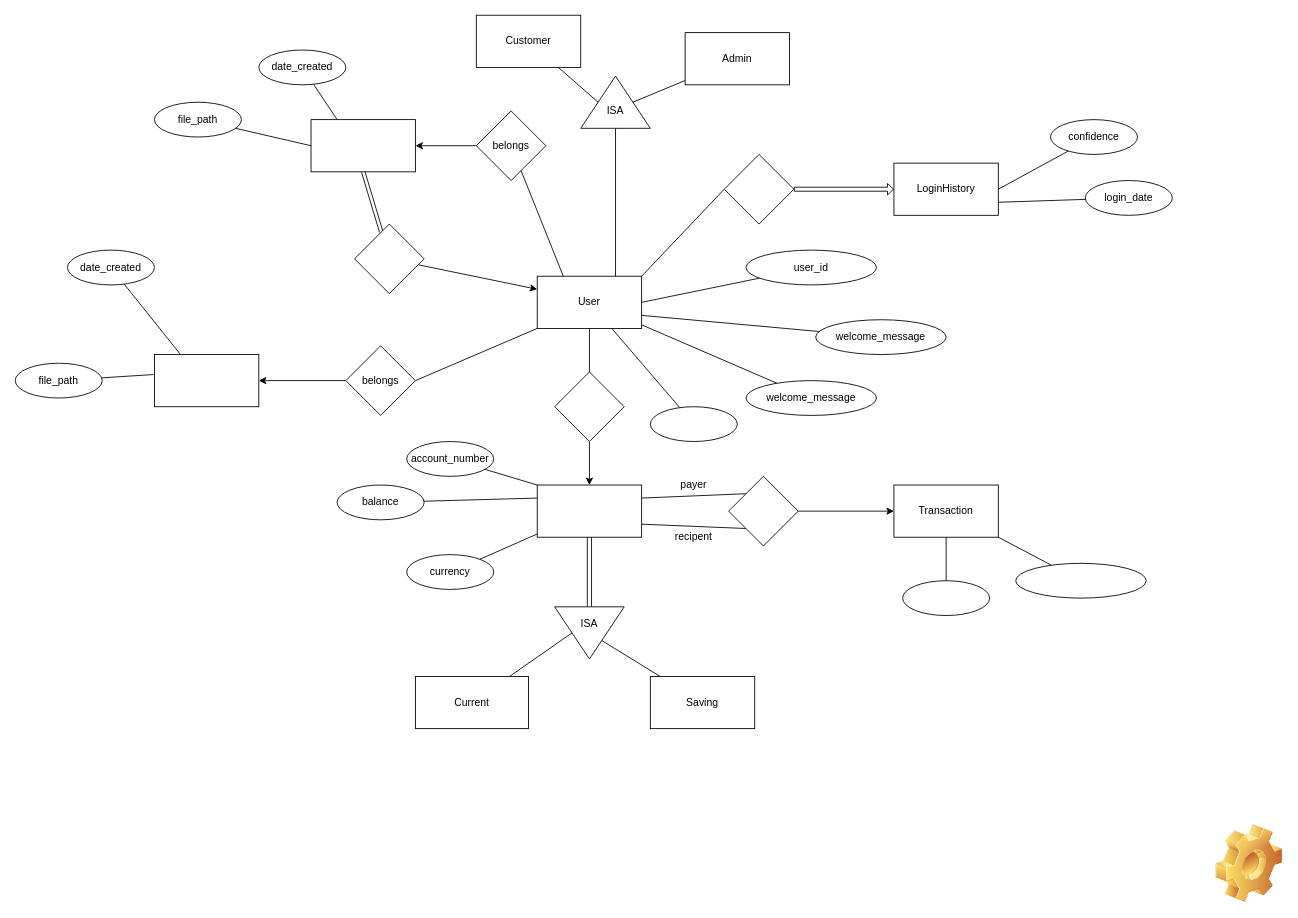
This 1298x918 diagram has some shape labels left out. The shapes that lost their labels are listed below. From the top down, each one's centre as x and y in pixels, then its label:
At point 362,145: "Image".
At point 758,189: "create".
At point 389,258: "thumbnail".
At point 206,380: "RecognitionModel".
At point 589,406: "owns".
At point 693,424: "name".
At point 589,510: "Account".
At point 763,510: "execute".
At point 946,598: "amount".
At point 1080,580: "transaction_date".
